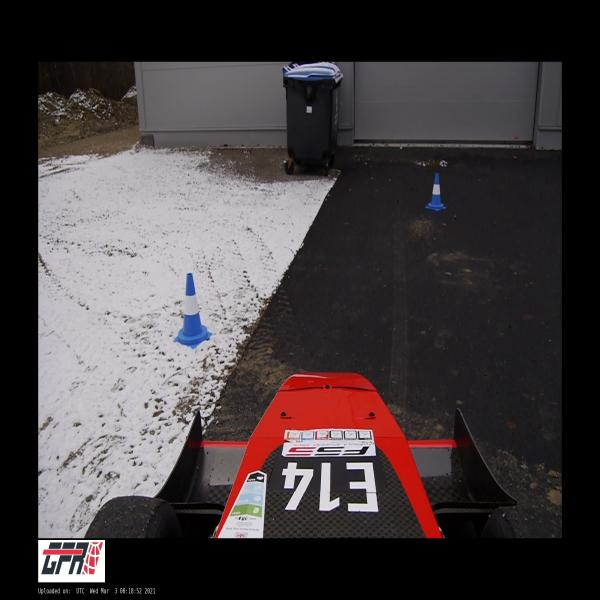blue_cone: (174, 274, 212, 348), (425, 173, 446, 211)
